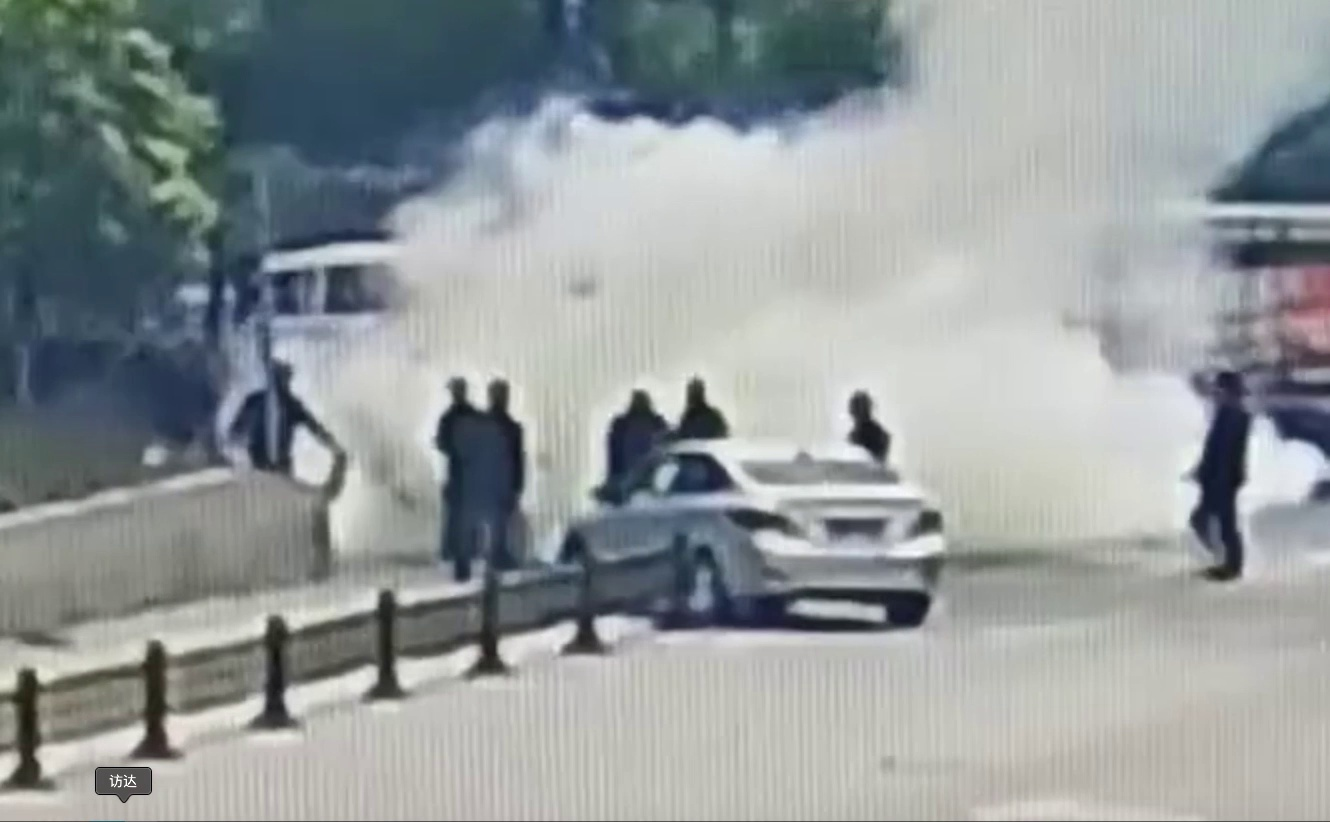smoke: (320, 42, 1148, 523)
